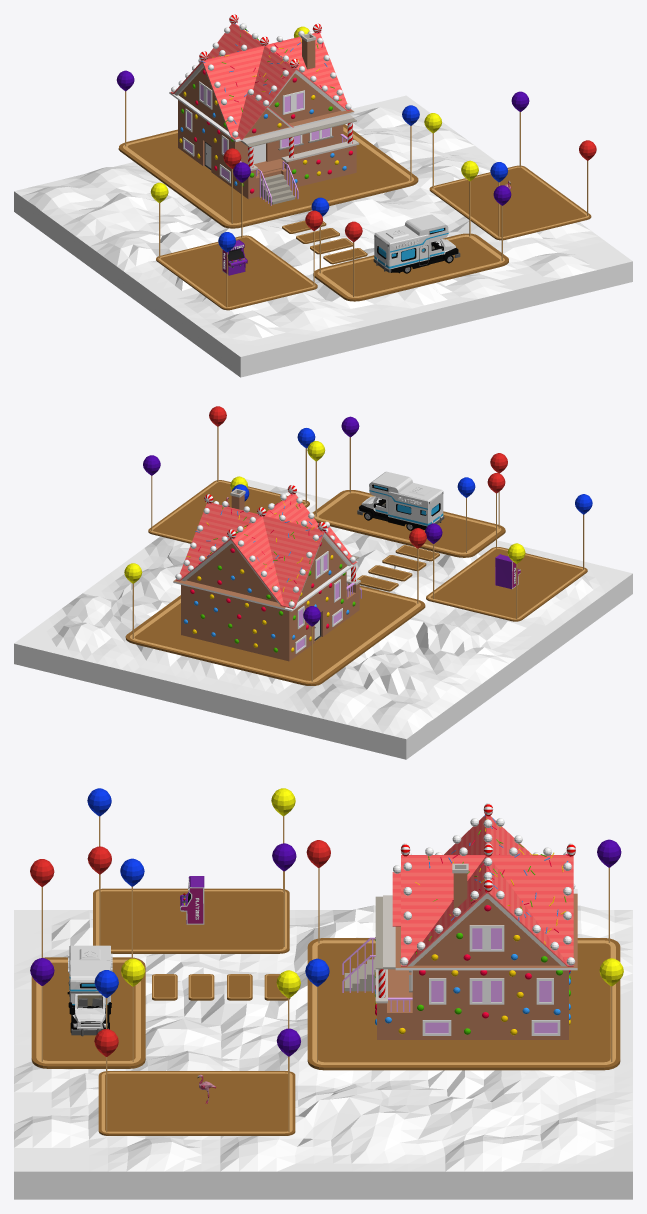
3 views of the same model, one above another, from view 1: azimuth 30°, elevation 25°; view 2: azimuth 150°, elevation 25°; view 3: azimuth 270°, elevation 25° (orthographic). The views are drawn at different scales.
Parts seen in each view (by area): view 1: Cube.013, Cube.1203, VEHICLES_CAMPER, OBJRANDOM_ARCADE; view 2: Cube.013, Cube.1203, VEHICLES_CAMPER, OBJRANDOM_ARCADE; view 3: Cube.013, Cube.1203, VEHICLES_CAMPER, OBJRANDOM_ARCADE.
Boxes of the visible parts, x1=… form: Cube.013: x1=14, y1=26, x2=632, y2=377; Cube.1203: x1=169, y1=14, x2=359, y2=205; VEHICLES_CAMPER: x1=373, y1=214, x2=460, y2=273; OBJRANDOM_ARCADE: x1=222, y1=240, x2=247, y2=275; Cube.013: x1=14, y1=406, x2=632, y2=759; Cube.1203: x1=173, y1=485, x2=361, y2=661; VEHICLES_CAMPER: x1=357, y1=471, x2=444, y2=530; OBJRANDOM_ARCADE: x1=495, y1=554, x2=520, y2=589; Cube.013: x1=14, y1=788, x2=632, y2=1199; Cube.1203: x1=342, y1=803, x2=577, y2=1039; VEHICLES_CAMPER: x1=67, y1=945, x2=112, y2=1036; OBJRANDOM_ARCADE: x1=180, y1=876, x2=204, y2=924.
Bounding box in the file's own units: 4000 × 1693 × 4000.
Materials: 47 (2 with a texture image).
